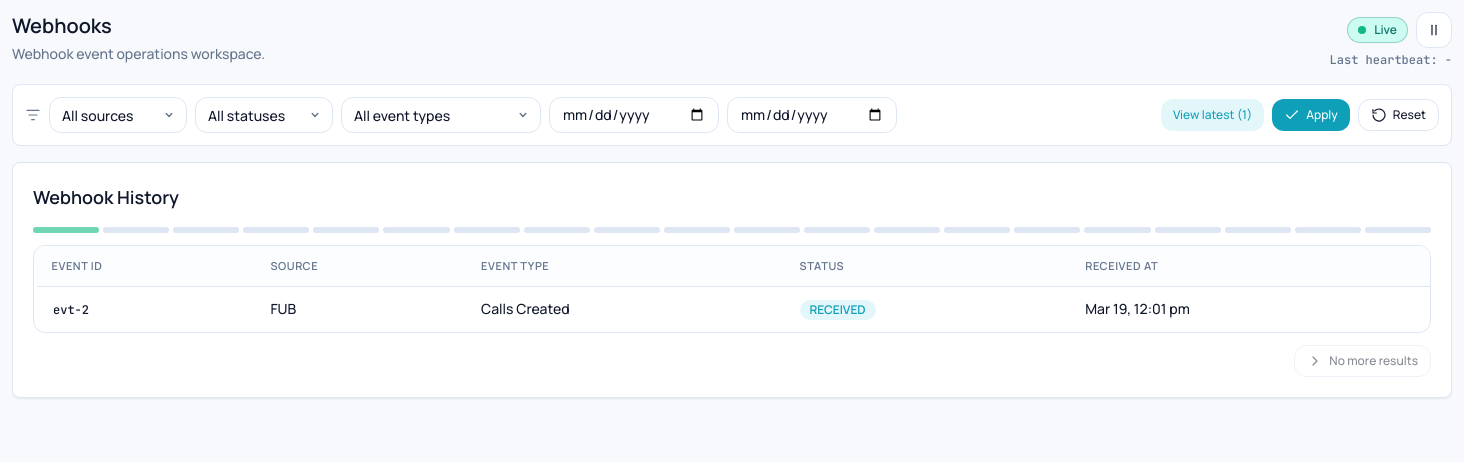
Test: Webhooks page Step 3 › shows View latest before Apply and drains buffered rows
Expected: the text "evt-2" is shown, [53,302,89,318]
Expected: the text "evt-9" is not shown
Step 1. Click the button with aria-label "View latest webhook events" → coordinates (1213, 115), box [1161,99,1264,131]
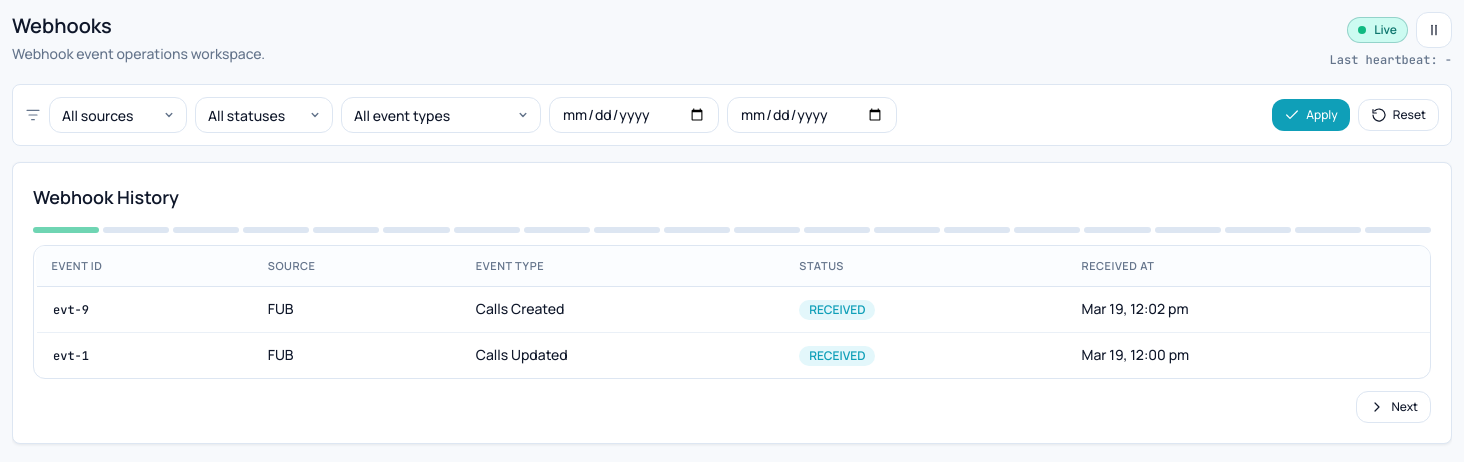
Now the text "evt-9" is shown, box [53,302,89,318]
